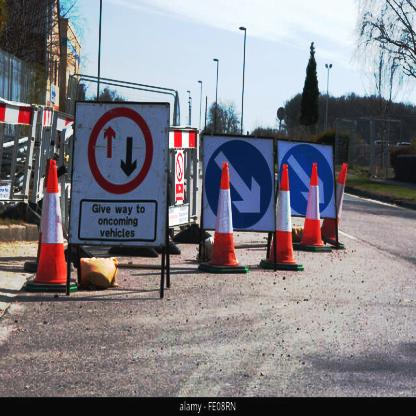Keep right: (205, 134, 276, 229), (280, 142, 338, 219)
